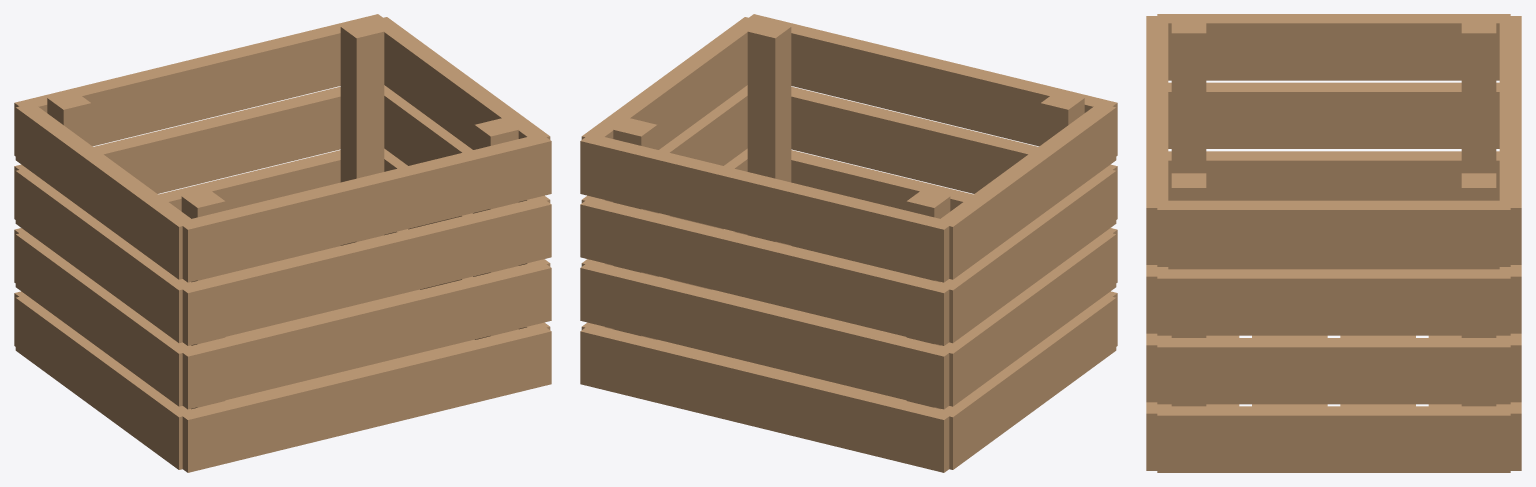
The model's file is market-crate.glb.
3 views of the same model, side by side, from view 1: azimuth 30°, elevation 25°; view 2: azimuth 150°, elevation 25°; view 3: azimuth 270°, elevation 25° (orthographic). The views are drawn at different scales.
Visible parts, largest first — view 1: market-crate; view 2: market-crate; view 3: market-crate.
Boxes of the visible parts, box(x1,y1,x2,y2) form: market-crate: box(14, 14, 551, 472); market-crate: box(580, 14, 1117, 472); market-crate: box(1146, 14, 1521, 472).
Size of the model in its own units: 0.735 by 0.49 by 0.595.
